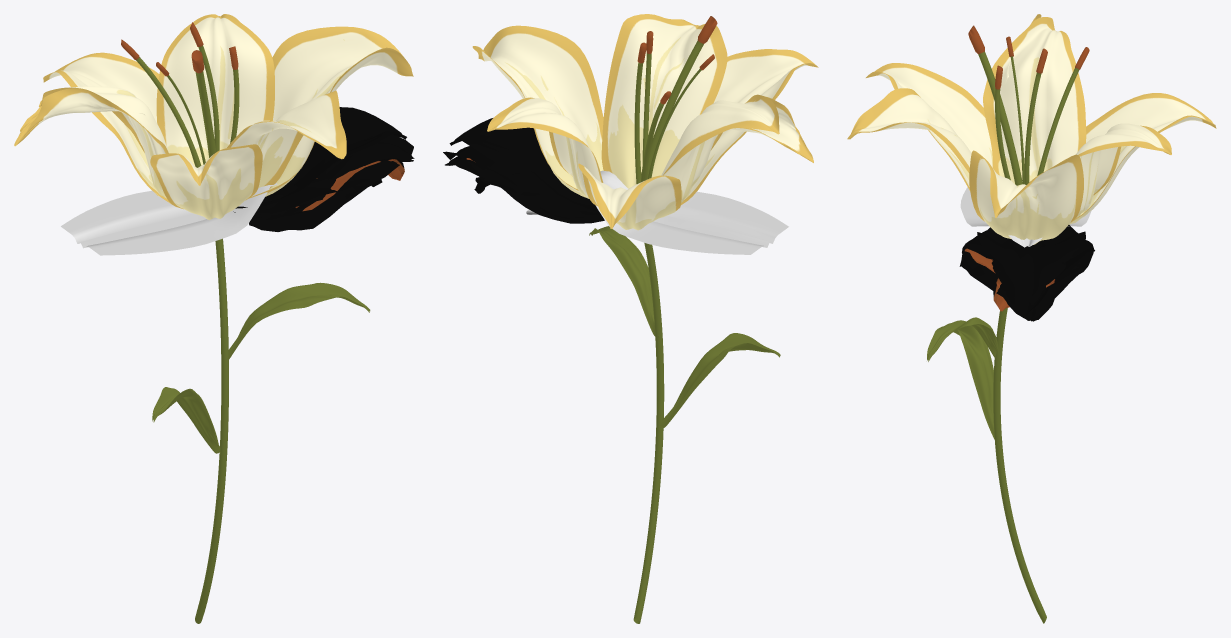
The model's file is white_lily1.glb.
3 renders of one model, left to right at view 1: azimuth 30°, elevation 25°; view 2: azimuth 150°, elevation 25°; view 3: azimuth 270°, elevation 25°, orthographic. The views are drawn at different scales.
Parts seen in each view (by area): view 1: flower, Plane.001, flower.001, Plane.004, Plane.009, Plane.003, Plane.002, Plane.005, Plane.015; view 2: flower.001, flower, Plane.001, Plane.009, Plane.005, Plane.002, Plane.004, Plane.003; view 3: flower.001, Plane.009, flower, Plane.004, Plane.005, Plane.015, Plane.001, Plane.003, Plane.002.
Boxes of the visible parts, x1=… form: flower: x1=14, y1=14, x2=413, y2=623; Plane.001: x1=61, y1=183, x2=277, y2=255; flower.001: x1=39, y1=14, x2=398, y2=623; Plane.004: x1=249, y1=135, x2=414, y2=231; Plane.009: x1=235, y1=107, x2=406, y2=208; Plane.003: x1=233, y1=178, x2=370, y2=213; Plane.002: x1=253, y1=173, x2=382, y2=217; Plane.005: x1=282, y1=159, x2=413, y2=215; Plane.015: x1=258, y1=158, x2=404, y2=216; flower.001: x1=473, y1=14, x2=806, y2=623; flower: x1=472, y1=14, x2=818, y2=622; Plane.001: x1=595, y1=170, x2=788, y2=254; Plane.009: x1=449, y1=118, x2=598, y2=211; Plane.005: x1=445, y1=156, x2=604, y2=223; Plane.002: x1=474, y1=172, x2=602, y2=219; Plane.004: x1=443, y1=146, x2=518, y2=186; Plane.003: x1=479, y1=176, x2=600, y2=214; flower.001: x1=848, y1=17, x2=1216, y2=623; Plane.009: x1=977, y1=225, x2=1085, y2=297; flower: x1=847, y1=14, x2=1187, y2=600; Plane.004: x1=959, y1=254, x2=1081, y2=316; Plane.005: x1=965, y1=262, x2=1083, y2=320; Plane.015: x1=964, y1=248, x2=1094, y2=311; Plane.001: x1=960, y1=187, x2=1091, y2=247; Plane.003: x1=962, y1=230, x2=1093, y2=273; Plane.002: x1=966, y1=239, x2=1081, y2=321.
Bounding box in the file's own units: 5.78 × 8.61 × 4.98.
6 materials, 6 textured.
